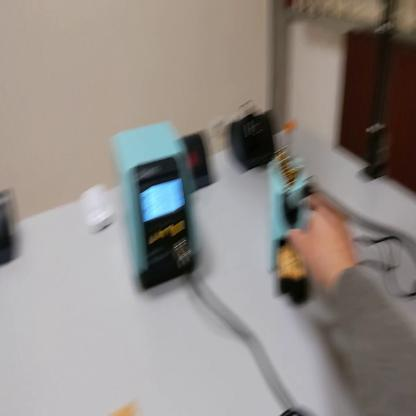hand: (287, 198, 354, 291)
socket: (228, 115, 277, 172), (180, 137, 214, 194)
welder base: (265, 121, 311, 306)
welder probe tip: (283, 185, 316, 226)
welder station: (115, 119, 200, 290)
working area: (107, 403, 139, 416)
